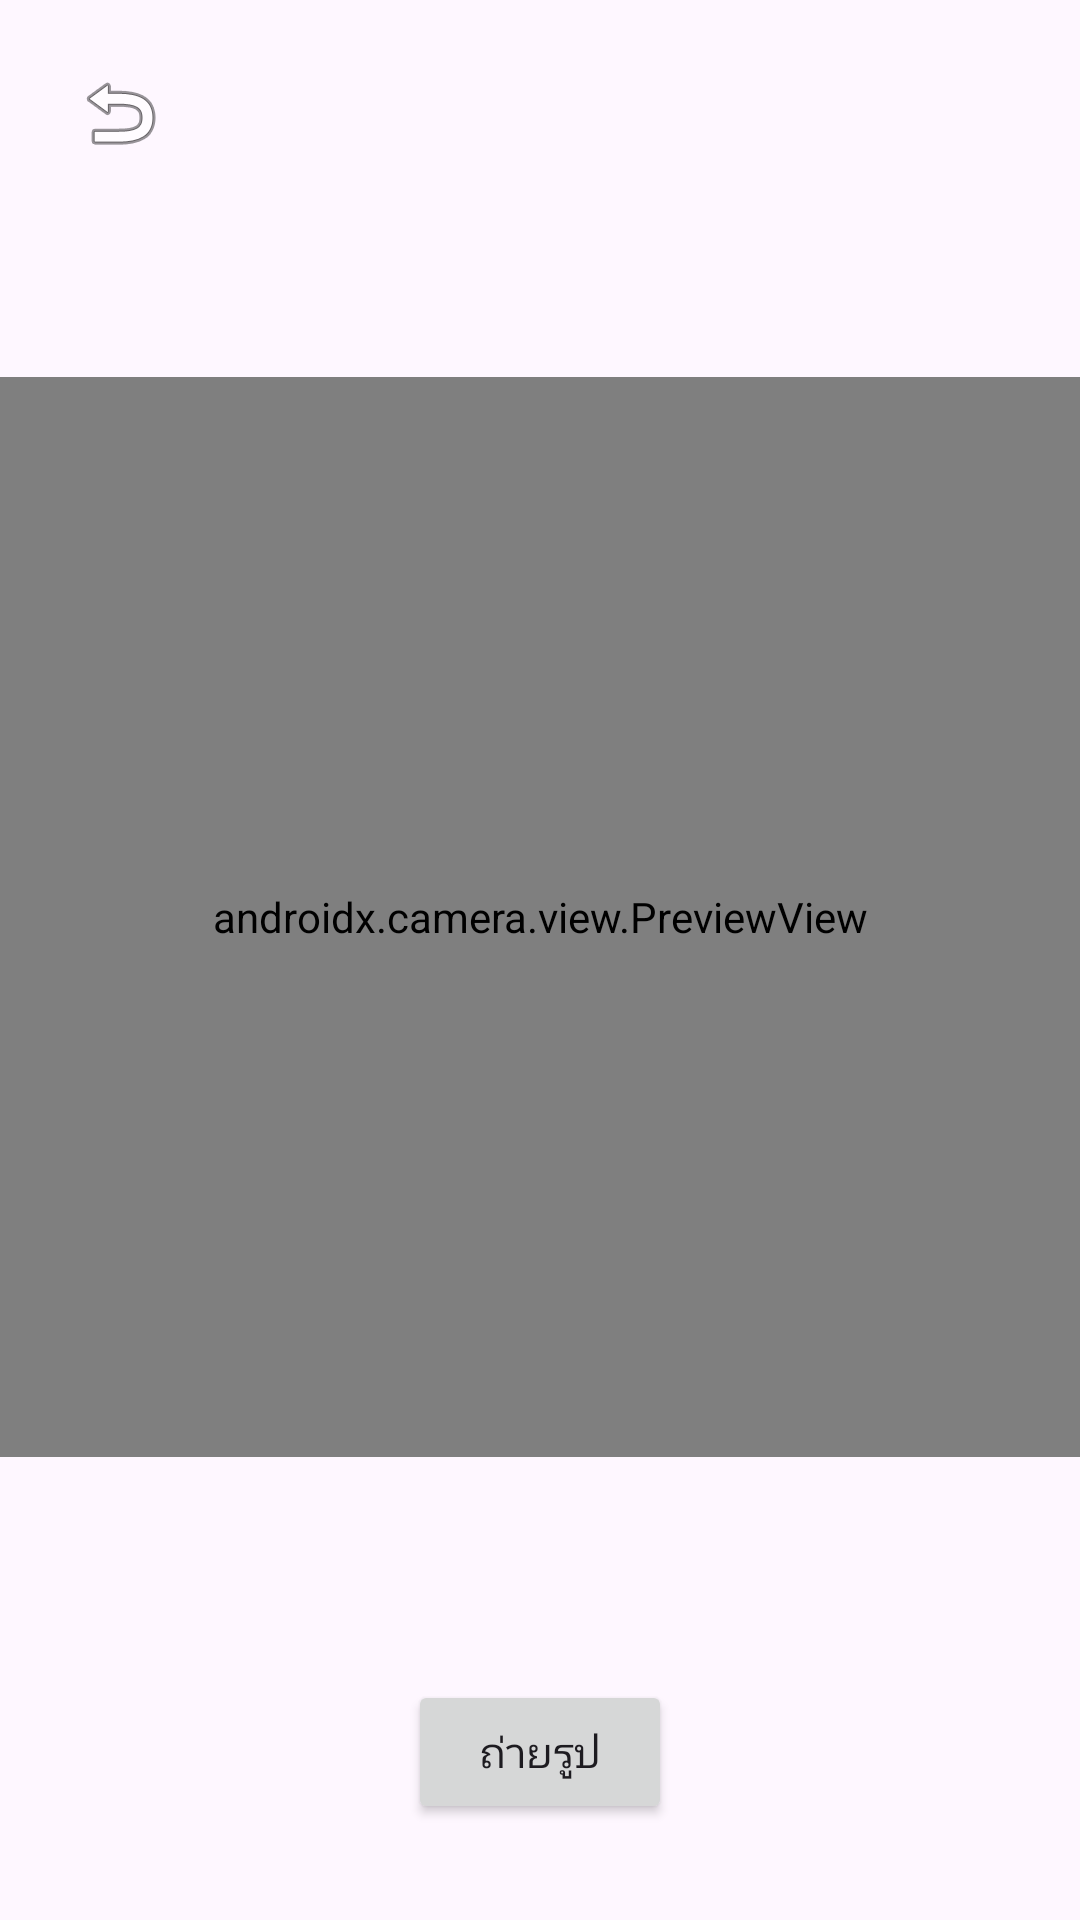

Screen size 1080×1920. Icon name, then its center in pixels as [x,y]:
ย้อนกลับ: [121,113]
